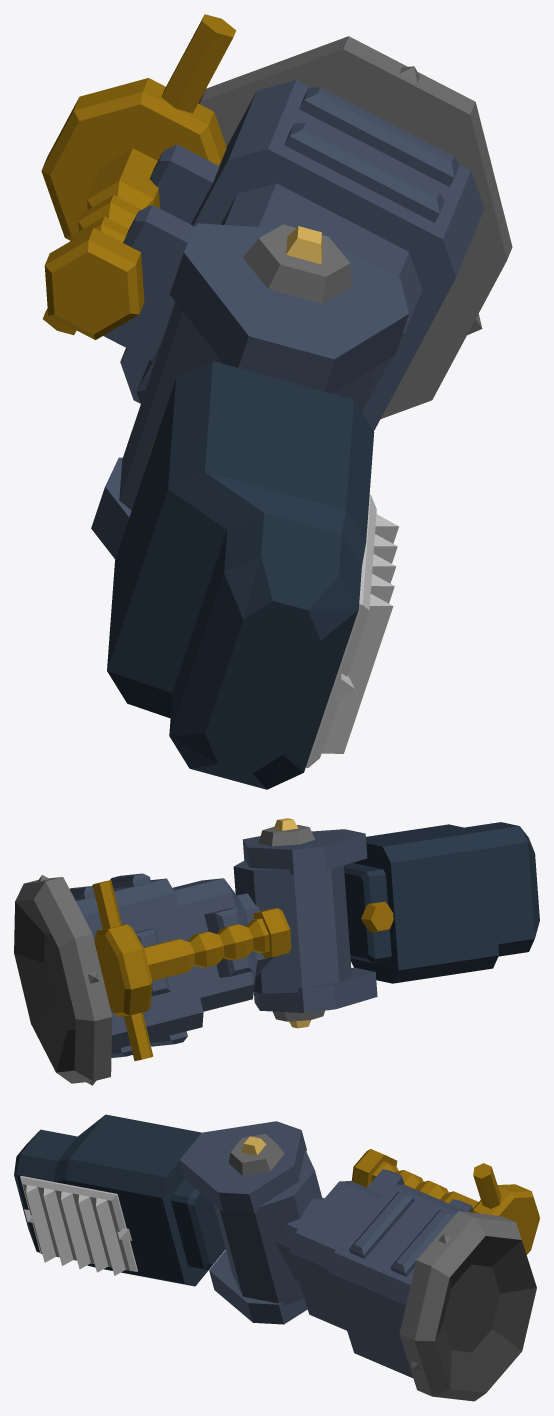
File: chain-link-bracelet-d3db3e.glb
3 views of the same model, one above another, from view 1: azimuth 30°, elevation 25°; view 2: azimuth 150°, elevation 25°; view 3: azimuth 270°, elevation 25° (orthographic). The views are drawn at different scales.
Visible parts, largest first — view 1: thumb-phalanx-proximal, thumb-phalanx-distal; view 2: thumb-phalanx-proximal, thumb-phalanx-distal; view 3: thumb-phalanx-proximal, thumb-phalanx-distal.
Boxes of the visible parts, bbox=[...] form: thumb-phalanx-proximal: bbox=[41, 14, 512, 558]; thumb-phalanx-distal: bbox=[107, 361, 399, 789]; thumb-phalanx-proximal: bbox=[14, 818, 377, 1085]; thumb-phalanx-distal: bbox=[343, 822, 539, 983]; thumb-phalanx-proximal: bbox=[180, 1121, 539, 1401]; thumb-phalanx-distal: bbox=[14, 1114, 225, 1286].
Bounding box in the file's own units: 0.0424 × 0.0256 × 0.0561.
